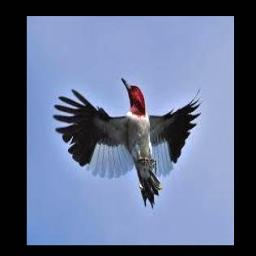Woodpecker: (53, 78, 202, 208)
